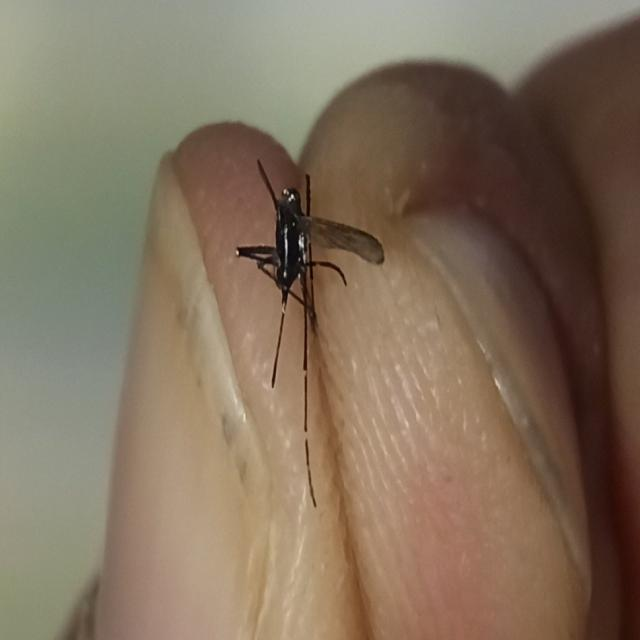albopictus: (228, 136, 384, 508)
